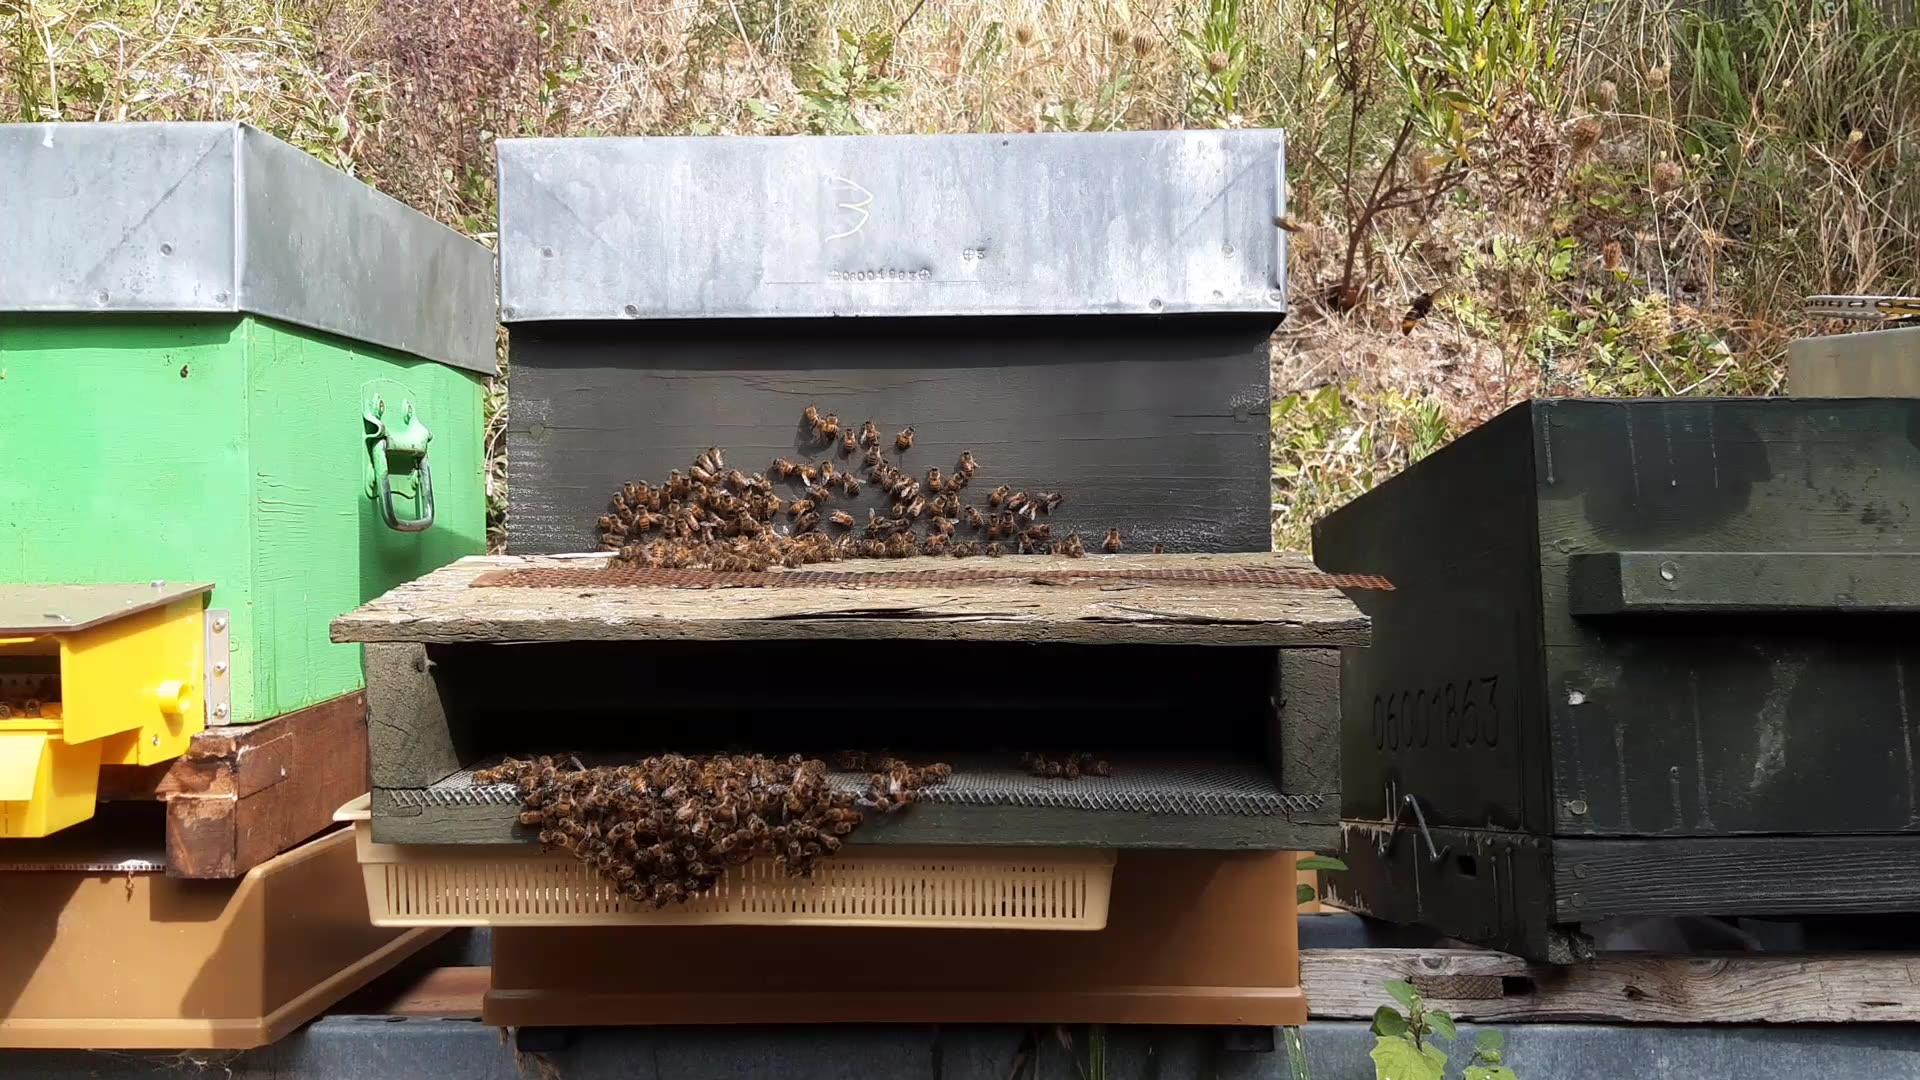bee: (641, 836, 727, 905), (847, 748, 952, 799), (491, 787, 570, 847), (822, 501, 905, 553), (642, 746, 738, 790), (491, 752, 578, 798), (1011, 502, 1089, 553), (589, 512, 662, 560), (717, 468, 783, 520), (956, 509, 1029, 554), (1350, 277, 1406, 331), (847, 469, 898, 518), (785, 415, 840, 460), (945, 464, 994, 514), (649, 472, 708, 513), (816, 419, 877, 458)
